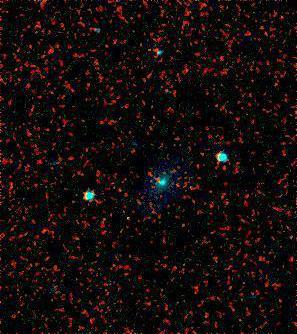star: (109, 204, 139, 234)
